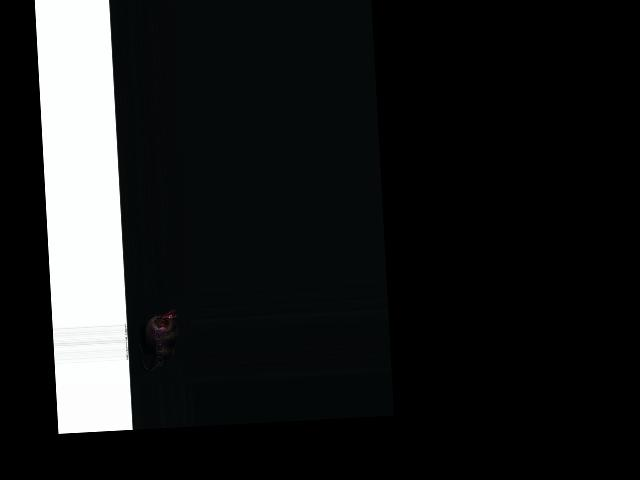beet: (136, 307, 180, 371)
